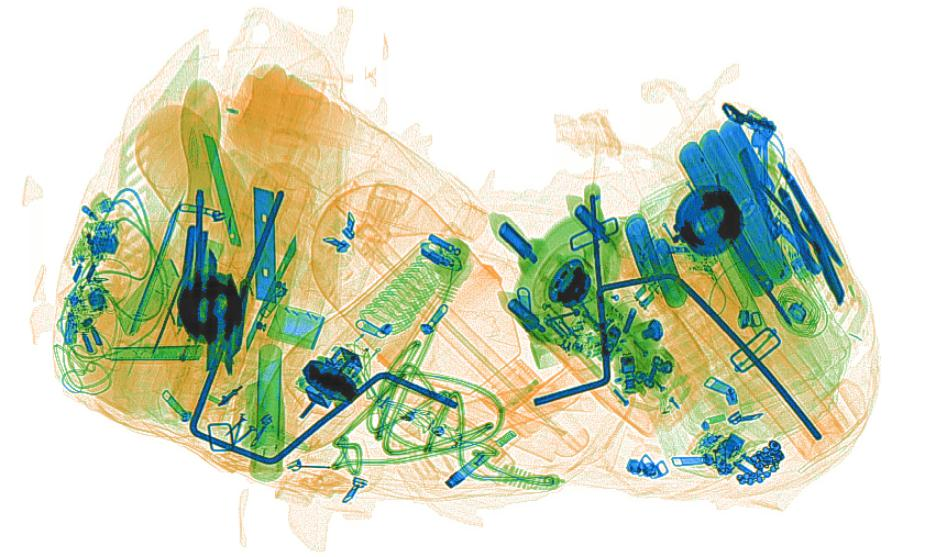battery: (677, 113, 811, 297), (622, 213, 687, 308)
knife: (202, 132, 245, 248)
lighter: (159, 321, 205, 400)
